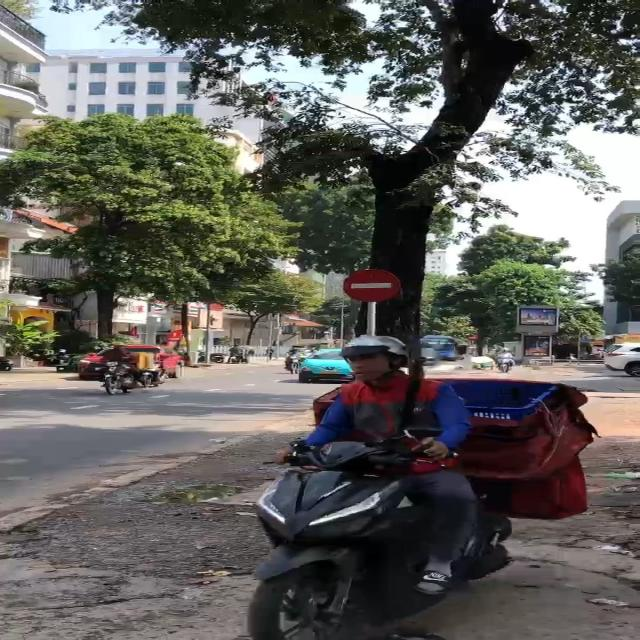Bien bao cam di nguoc chieu: (341, 269, 404, 303)
